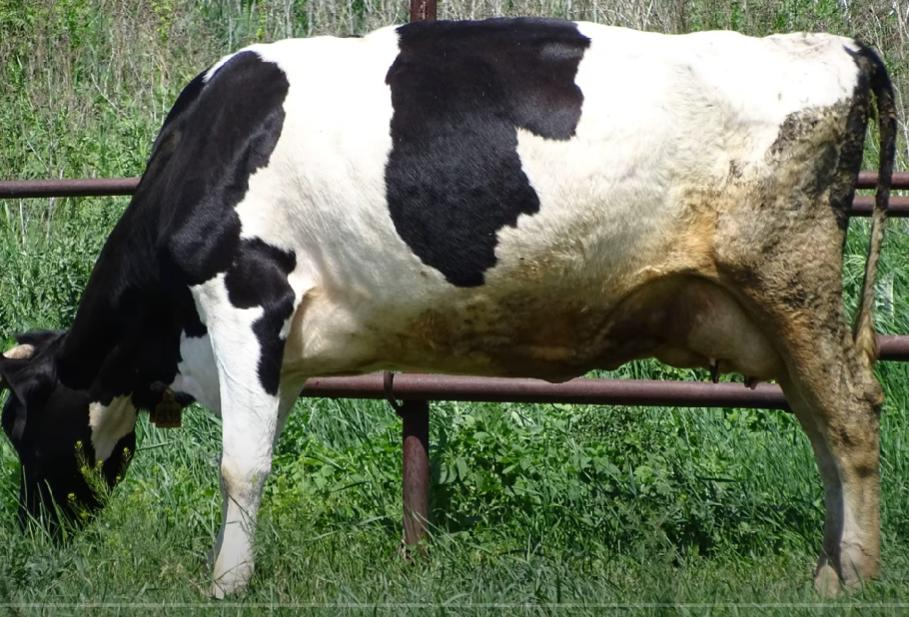cow: (0, 17, 900, 596)
